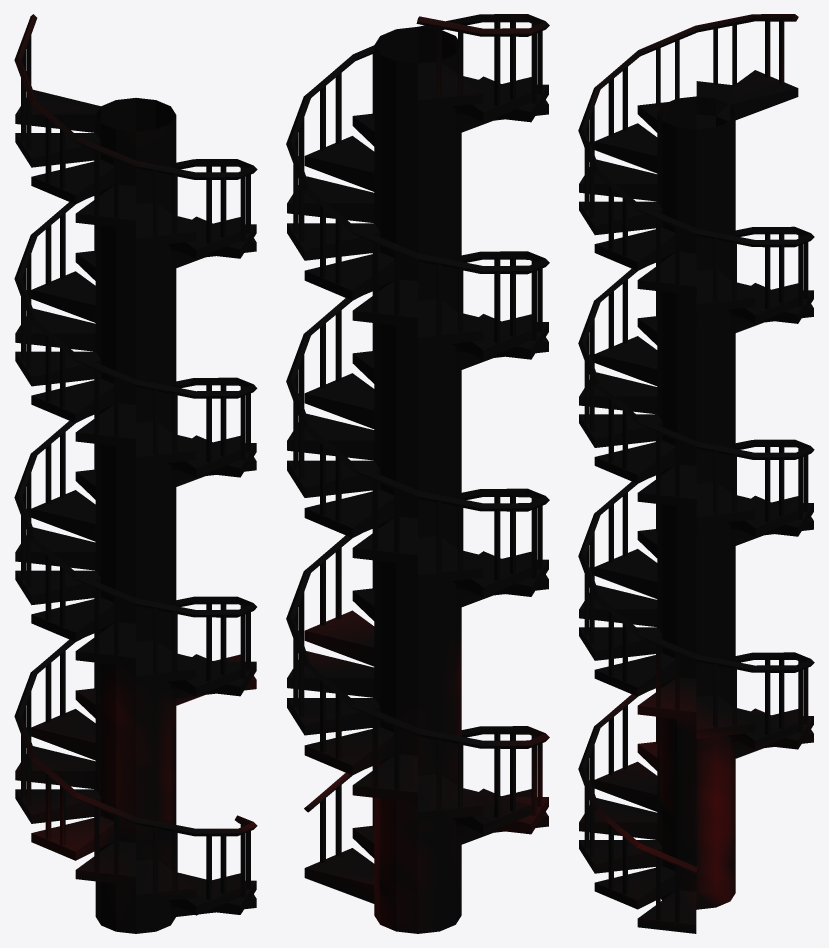
Rendered from StairwellTowerMiddle_export.obj.
3 views of the same model, side by side, from view 1: azimuth 30°, elevation 25°; view 2: azimuth 150°, elevation 25°; view 3: azimuth 270°, elevation 25° (orthographic). The views are drawn at different scales.
Parts seen in each view (by area): view 1: StairwellTowerMiddle; view 2: StairwellTowerMiddle; view 3: StairwellTowerMiddle.
Part boxes in pixels (x1,y1,x2,y2): StairwellTowerMiddle: [14, 14, 257, 933]; StairwellTowerMiddle: [286, 14, 549, 933]; StairwellTowerMiddle: [578, 14, 814, 933].
Size of the model in its own units: 3.02 by 12.05 by 3.02.
